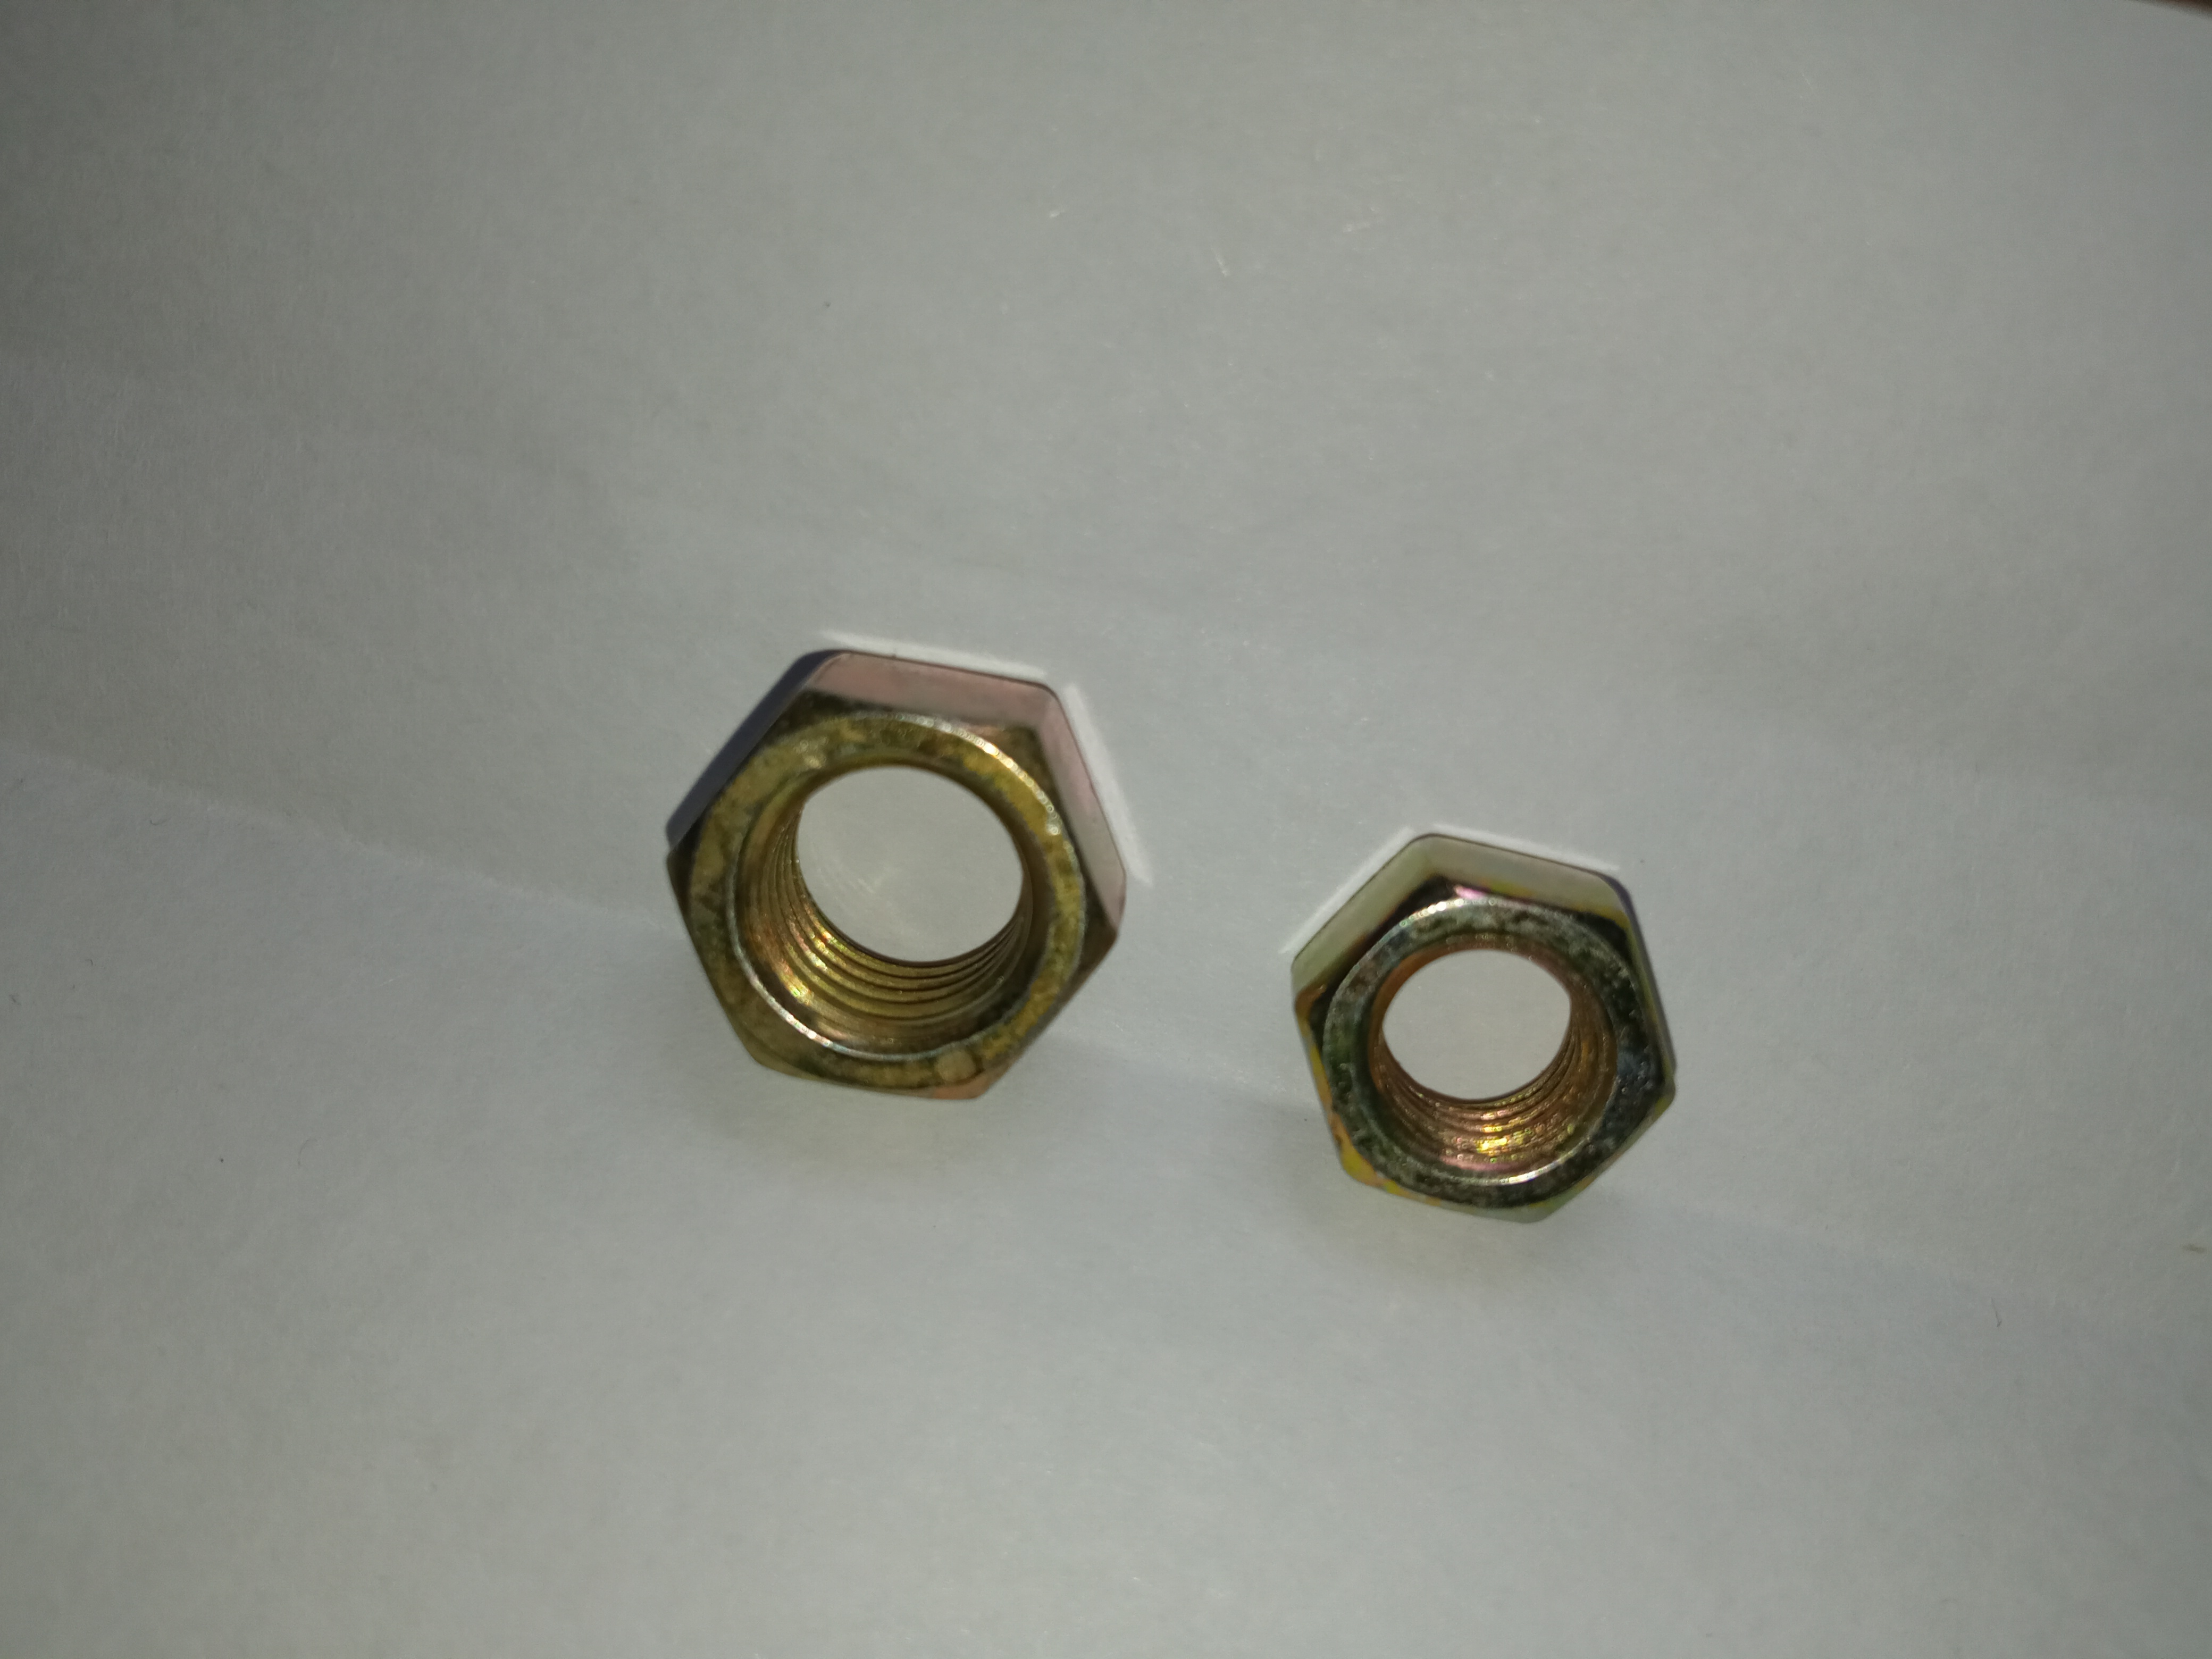m10: (662, 657, 1096, 1087)
m8: (1282, 836, 1674, 1222)
